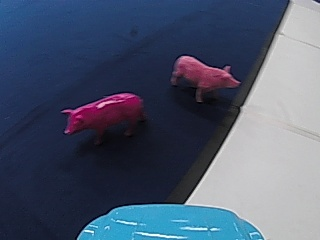pig: (58, 89, 146, 142), (170, 51, 240, 102)
